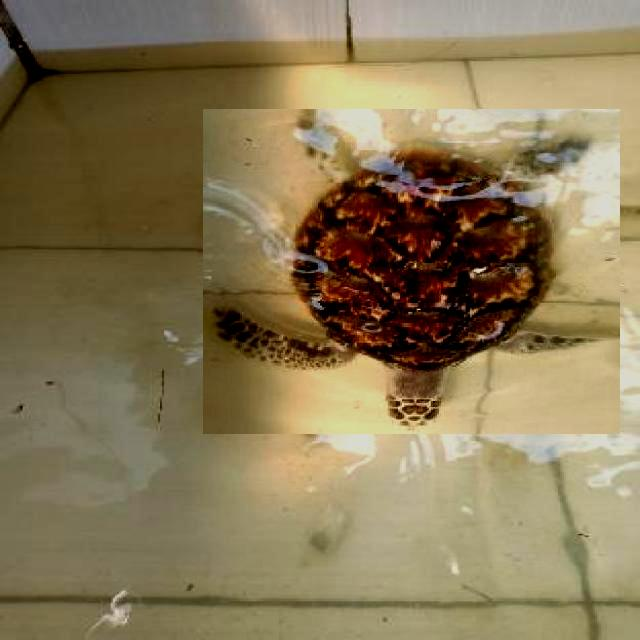Sea turtle: (204, 110, 622, 436)
